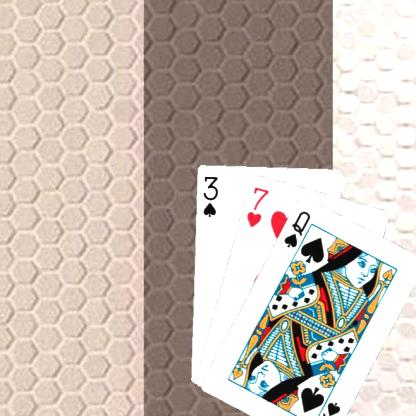3S: (200, 173, 219, 218)
7H: (243, 183, 270, 229)
QS: (280, 207, 312, 249), (311, 399, 342, 416)
